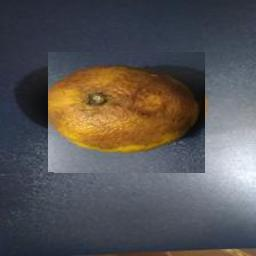Orange Rotten: (48, 53, 205, 174)
